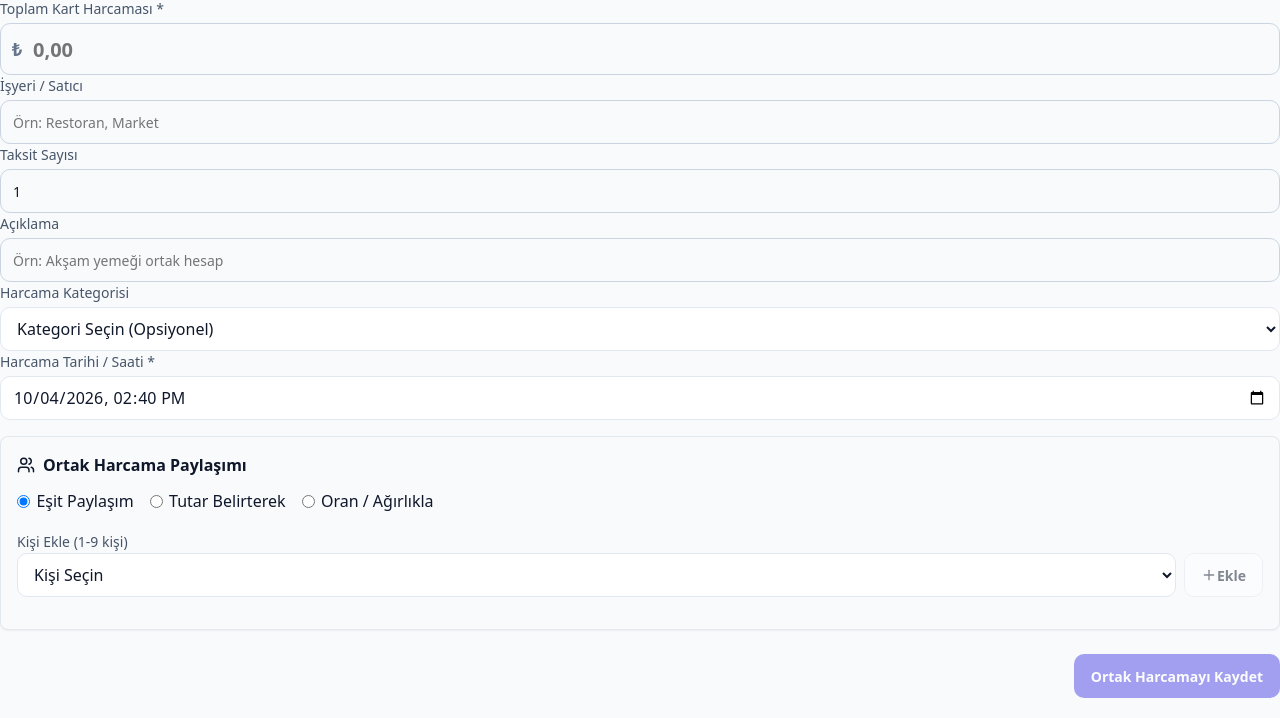
Scenario: F5 Shared Purchases & Splits Lifecycle › submits atomic shared purchase for EQUAL split without sending shareAmount, weight, or userWeight
This screenshot has width=1280, height=718.
Fill purchase fields
Type "300.00" into the field with test id "money-input" at (640, 49), box [0,23,1279,75]
Type "Yemek" into the field labelled "Açıklama" at (640, 260), box [0,238,1279,282]
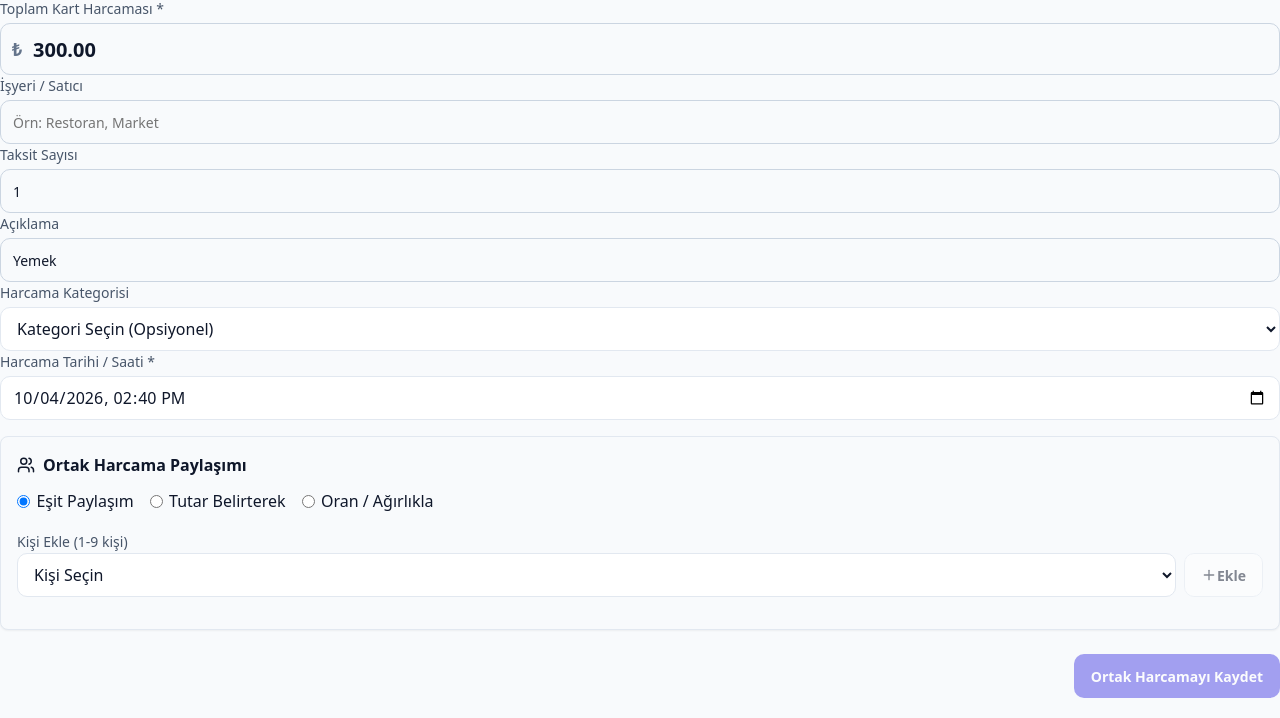
Add participants
Select "Ali Veli (FRIEND)" in the dropdown with test id "candidate-person-select" at (596, 575), box [17,553,1176,597]
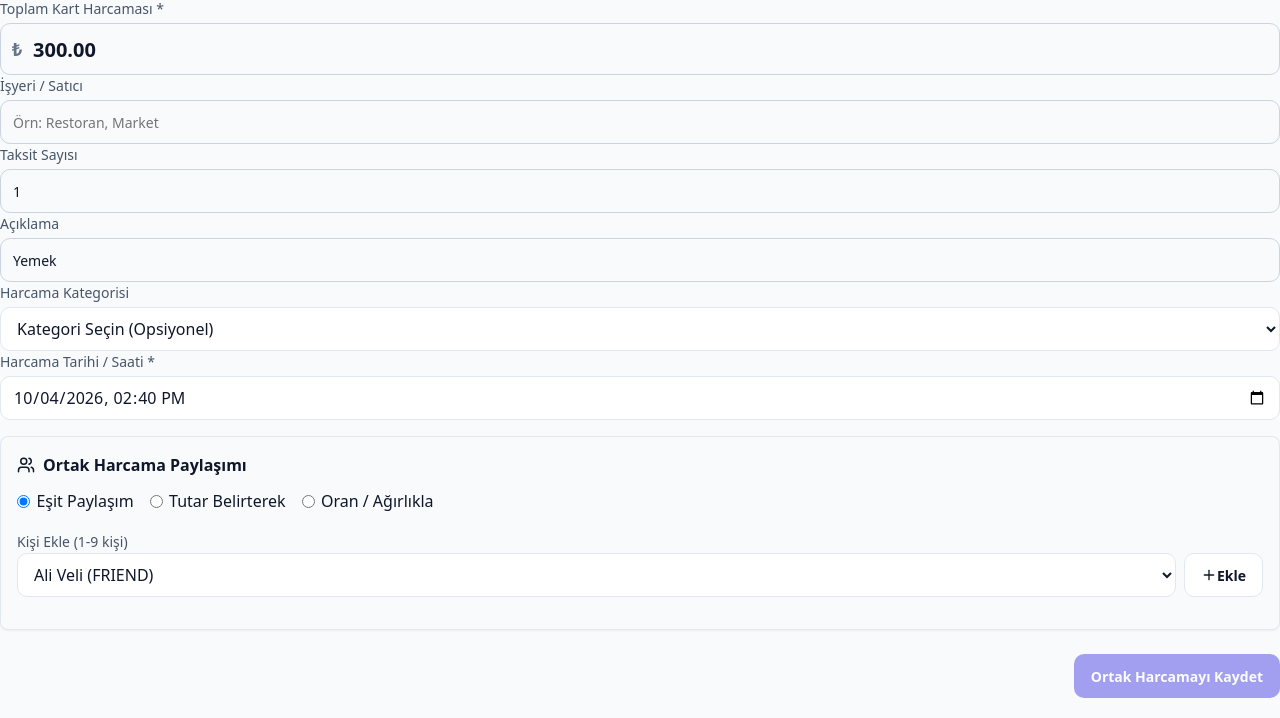
Click the button with test id "add-participant-btn" at (1223, 575), box [1184,553,1263,597]
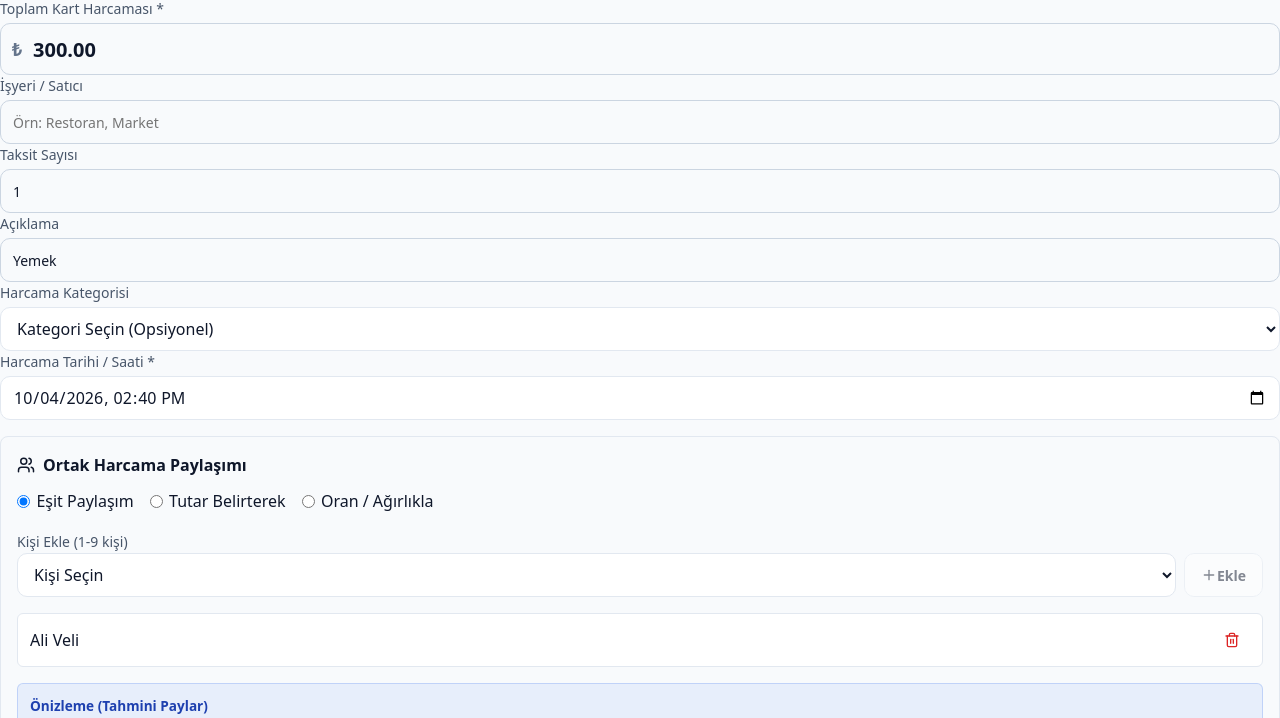
Select "Ayşe Kaya (FAMILY)" in the dropdown with test id "candidate-person-select" at (596, 575), box [17,553,1176,597]
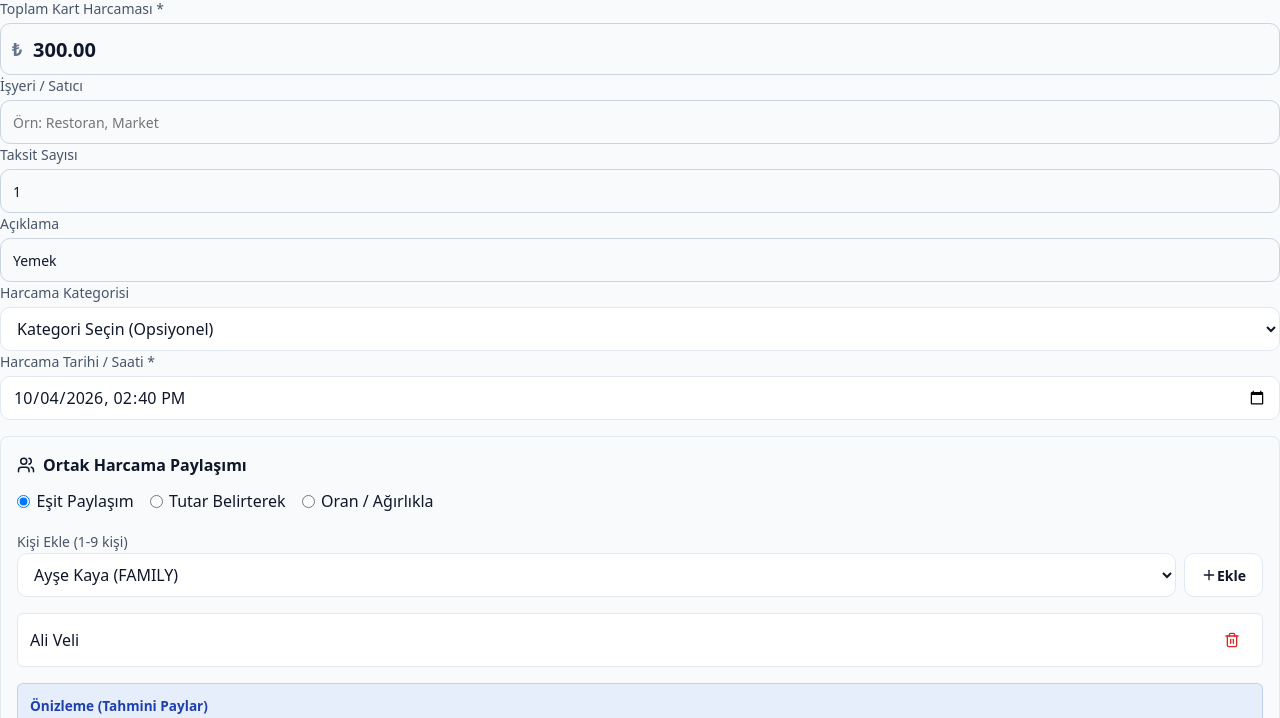
Click the button with test id "add-participant-btn" at (1223, 575), box [1184,553,1263,597]
(page scrolled)
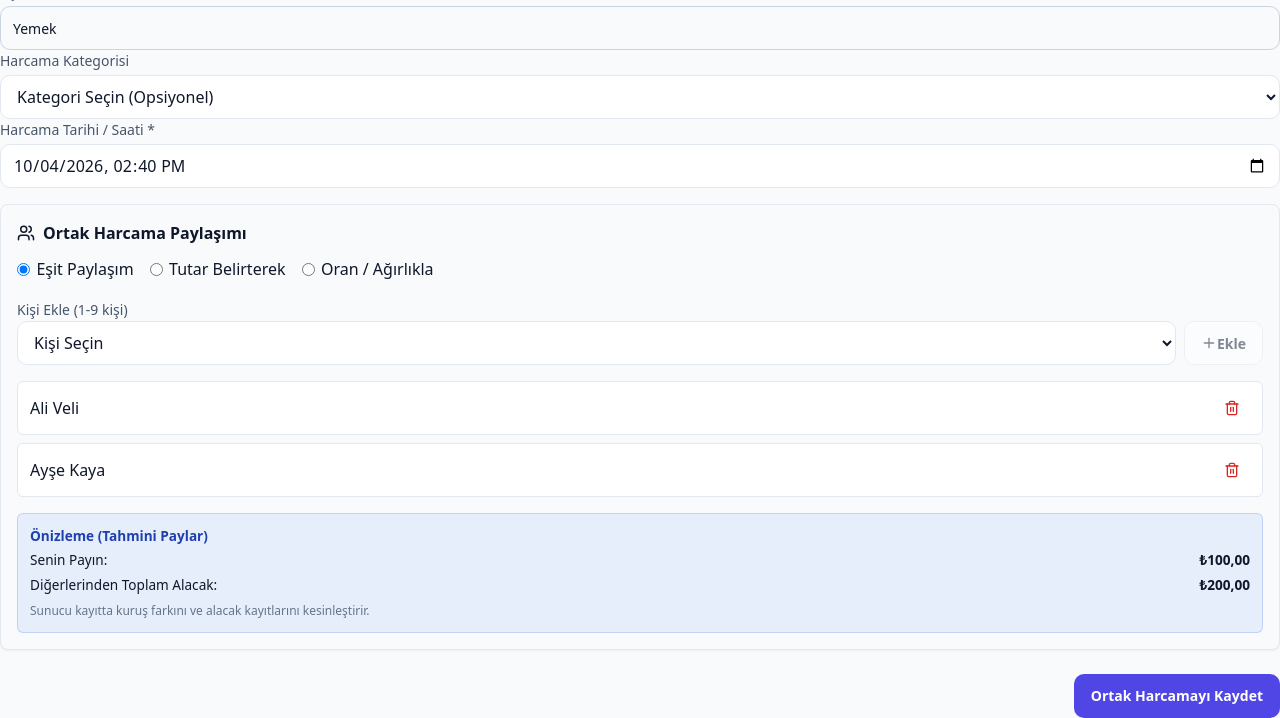
Expected: the button with test id "submit-shared-purchase-button" is enabled
Click the button with test id "submit-shared-purchase-button" at (1177, 696), box [1074,674,1279,717]
(page scrolled)
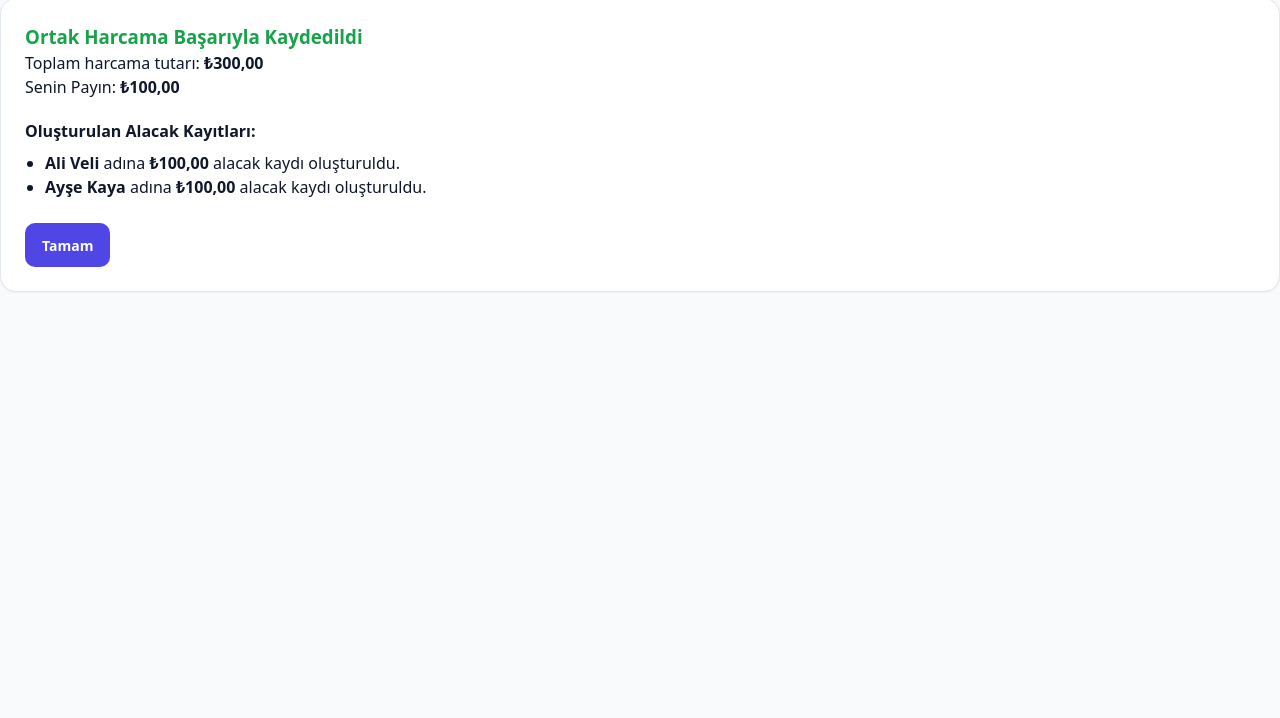
Expected: the number of list items with test id "obligation-confirm-row" is 2, [45,152,400,174]; [45,176,426,198]
Expected: the list item with test id "obligation-confirm-row" shows "Ali Veli", [45,152,99,174]
Expected: the list item with test id "obligation-confirm-row" shows "₺100,00", [149,152,209,174]
